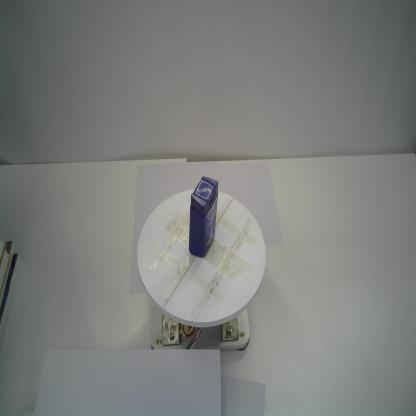Personal Hygiene: (188, 176, 219, 258)
